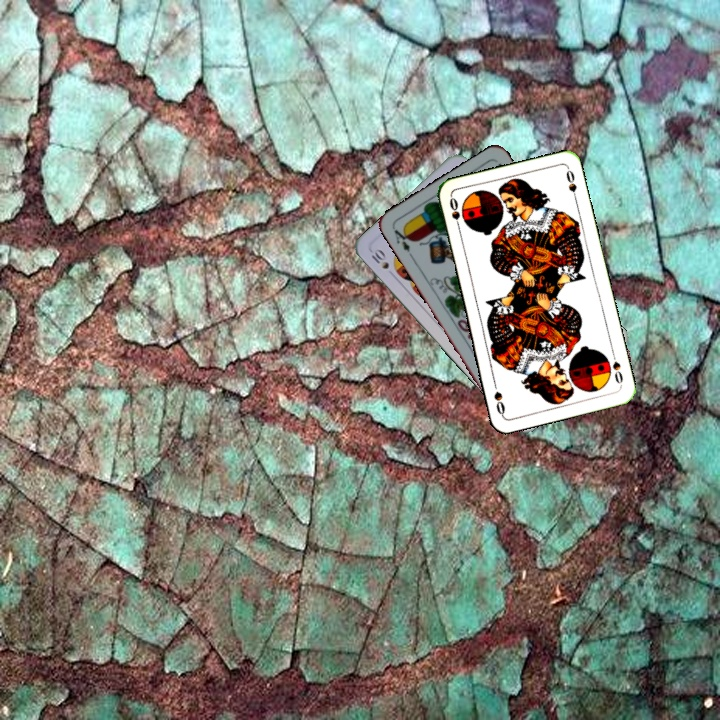EA: (389, 224, 414, 255)
S10: (367, 244, 398, 280)
SO: (445, 193, 463, 234), (608, 348, 625, 388)
